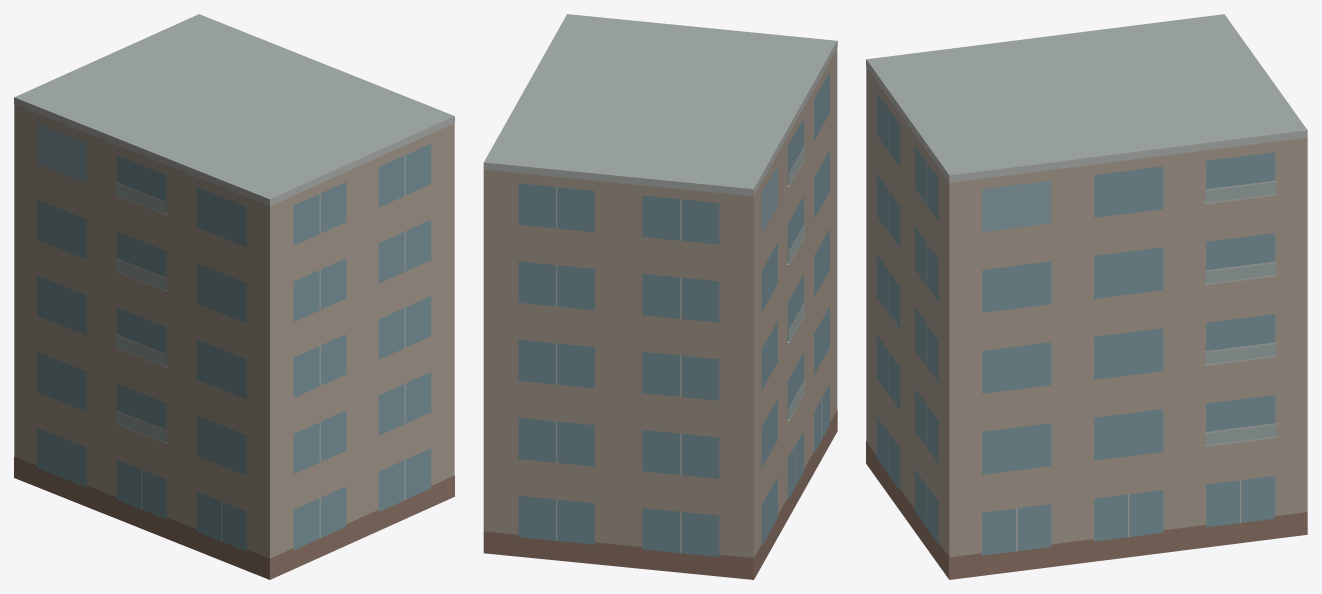
File: survey-upis-32981728.glb
3 views of the same model, side by side, from view 1: azimuth 30°, elevation 25°; view 2: azimuth 150°, elevation 25°; view 3: azimuth 270°, elevation 25° (orthographic). The views are drawn at different scales.
Visible parts, largest first — view 1: survey-upis-32981728.tmp; view 2: survey-upis-32981728.tmp; view 3: survey-upis-32981728.tmp.
Boxes of the visible parts, bbox=[...] form: survey-upis-32981728.tmp: bbox=[14, 14, 454, 579]; survey-upis-32981728.tmp: bbox=[483, 14, 837, 579]; survey-upis-32981728.tmp: bbox=[866, 14, 1307, 579].
Bounding box in the file's own units: 11.48 × 13.4 × 13.27.
